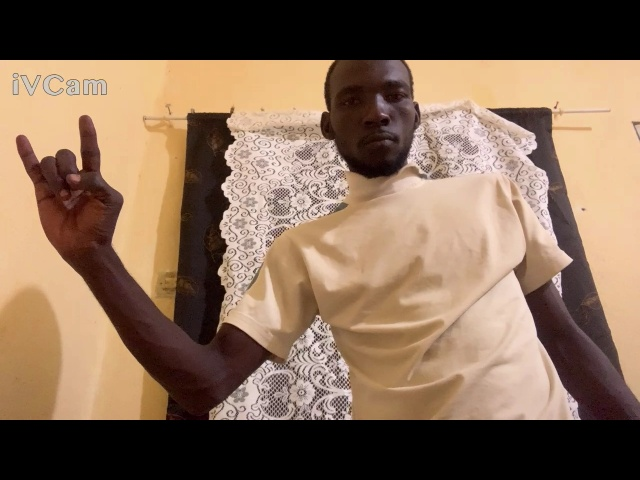je t'aime: (8, 111, 133, 268)
